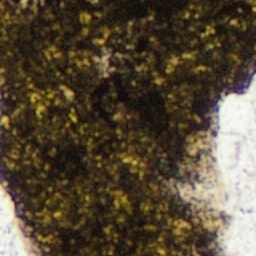cement_matrix: (0, 0, 255, 255)
gravel_crushed_stones: (177, 70, 255, 255), (0, 179, 38, 255)
